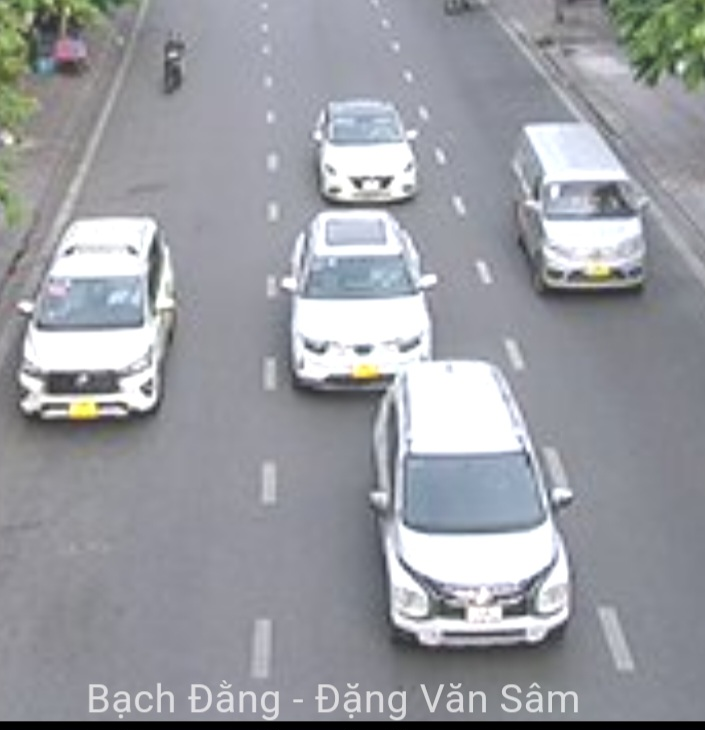car: (377, 360, 574, 649), (20, 215, 178, 432), (286, 206, 433, 397), (511, 123, 649, 297), (312, 98, 423, 205)
